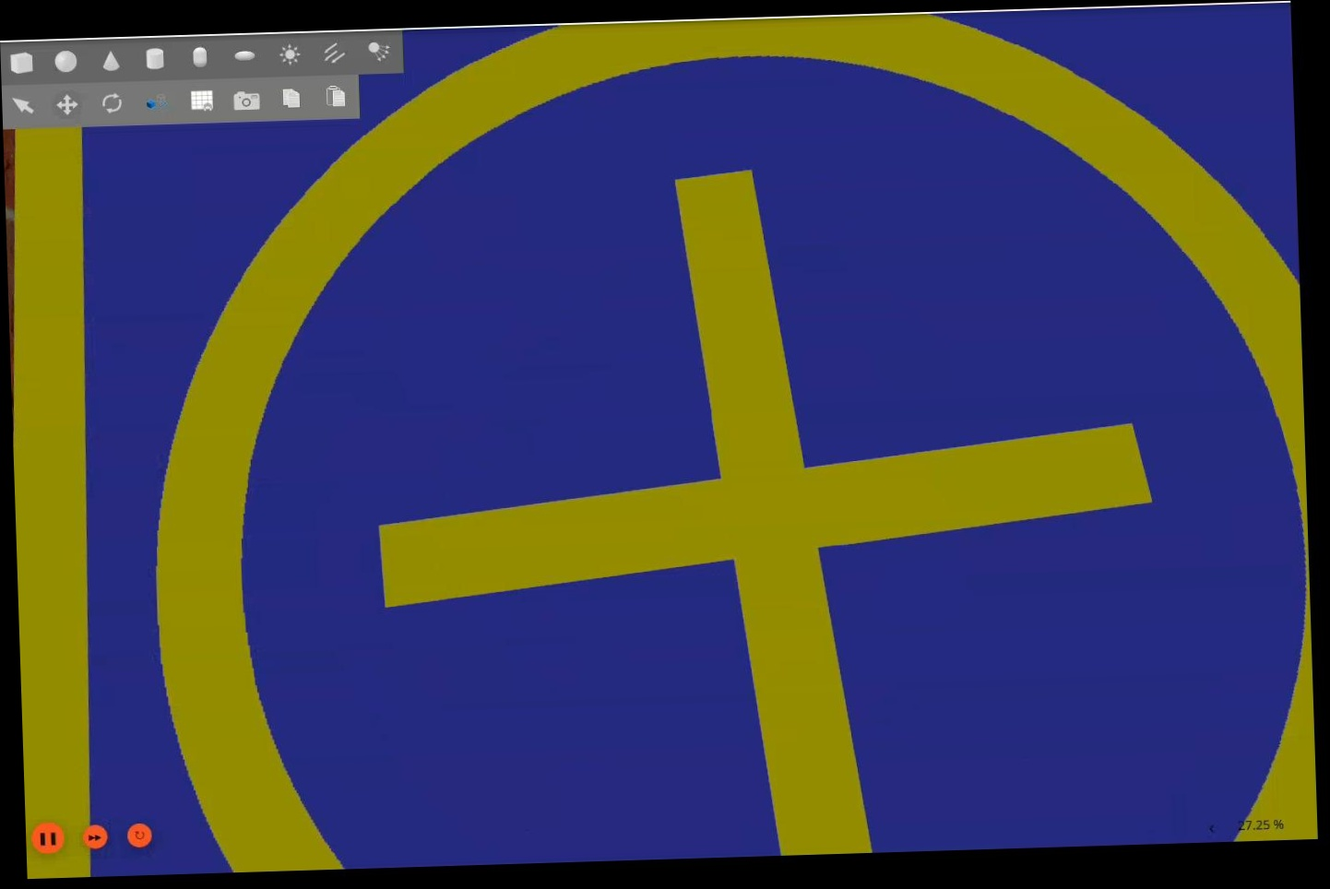small_base: (0, 5, 1318, 877)
